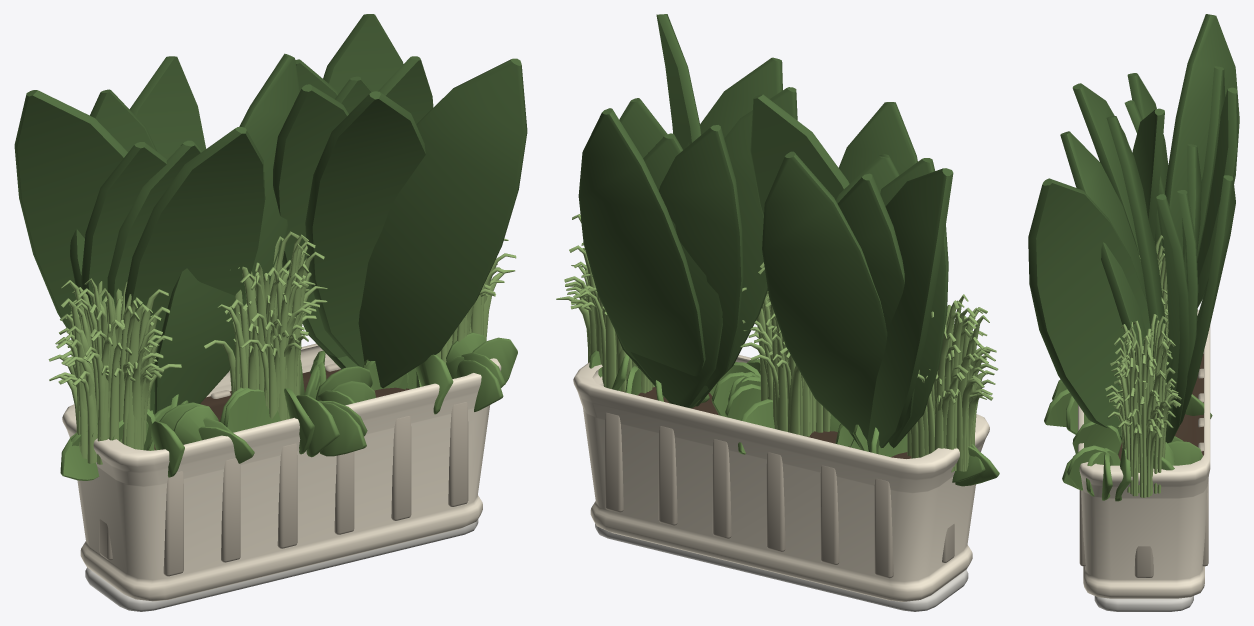
File: jard_haute_mixte.glb
3 renders of one model, left to right at view 1: azimuth 30°, elevation 25°; view 2: azimuth 150°, elevation 25°; view 3: azimuth 270°, elevation 25°, orthographic. The views are drawn at different scales.
Visible parts, largest first — view 1: VRA_Feuille_Fonce, VRA_Pot_Creme, VRA_Feuille_Clair, VRA_Feuille_Moyen, VRA_Nervures, VRA_Embase, VRA_Terre; view 2: VRA_Feuille_Fonce, VRA_Pot_Creme, VRA_Feuille_Clair, VRA_Nervures, VRA_Feuille_Moyen, VRA_Embase, VRA_Terre; view 3: VRA_Feuille_Fonce, VRA_Pot_Creme, VRA_Feuille_Clair, VRA_Feuille_Moyen, VRA_Nervures, VRA_Embase, VRA_Terre.
Part boxes in pixels (box(x1,y1,x2,y2)): VRA_Feuille_Fonce: box(14, 14, 527, 414); VRA_Pot_Creme: box(62, 343, 501, 601); VRA_Feuille_Clair: box(48, 231, 516, 464); VRA_Feuille_Moyen: box(60, 332, 517, 480); VRA_Nervures: box(99, 363, 468, 576); VRA_Embase: box(85, 519, 478, 611); VRA_Terre: box(154, 369, 410, 450); VRA_Feuille_Fonce: box(578, 14, 953, 452); VRA_Pot_Creme: box(573, 355, 989, 601); VRA_Feuille_Clair: box(556, 214, 998, 472); VRA_Nervures: box(605, 412, 954, 578); VRA_Feuille_Moyen: box(589, 350, 999, 486); VRA_Embase: box(595, 523, 968, 611); VRA_Terre: box(621, 387, 911, 458); VRA_Feuille_Fonce: box(1028, 14, 1239, 443); VRA_Pot_Creme: box(1078, 310, 1210, 598); VRA_Feuille_Clair: box(1105, 235, 1181, 497); VRA_Feuille_Moyen: box(1044, 379, 1212, 501); VRA_Nervures: box(1079, 352, 1208, 577); VRA_Embase: box(1094, 596, 1193, 611); VRA_Terre: box(1118, 353, 1203, 460).
Size of the model in its own units: 1.41 by 1.45 by 0.6387.
